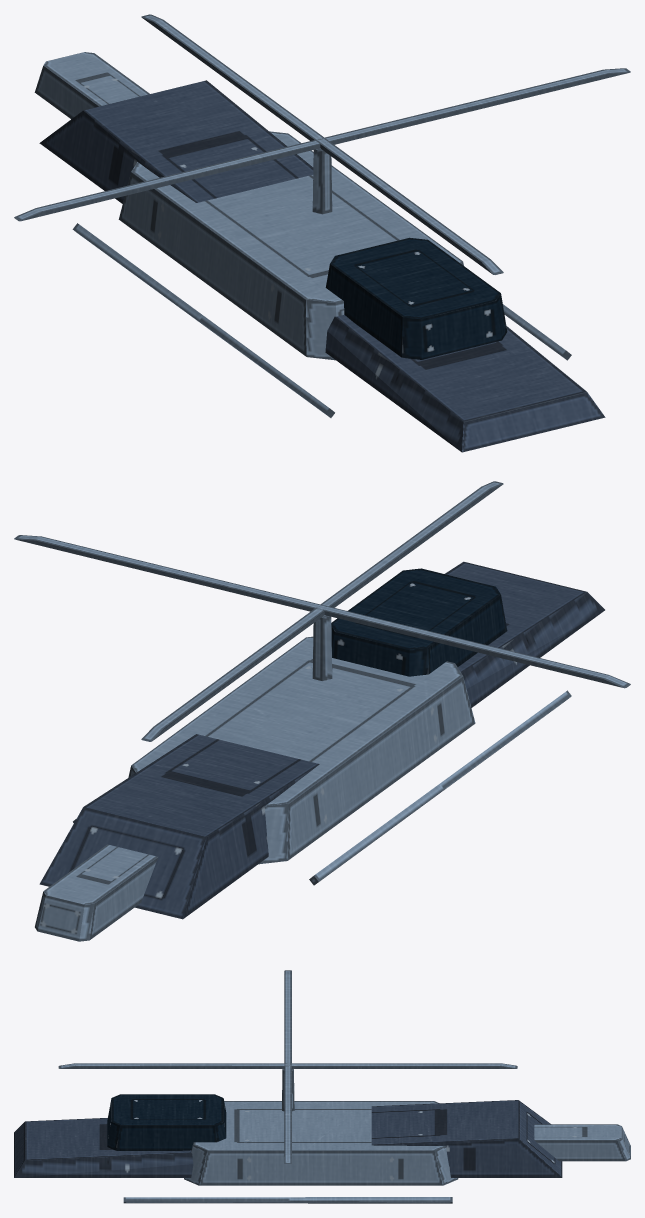
Rendered from unit-transport_heli.fbx.
3 renders of one model, top to bottom at view 1: azimuth 30°, elevation 25°; view 2: azimuth 150°, elevation 25°; view 3: azimuth 270°, elevation 25°, orthographic. The views are drawn at different scales.
Visible parts, largest first — view 1: unit-transport_heli; view 2: unit-transport_heli; view 3: unit-transport_heli.
Part boxes in pixels (<box>): unit-transport_heli: <box>14,14,630,452</box>; unit-transport_heli: <box>14,481,630,941</box>; unit-transport_heli: <box>14,970,630,1203</box>.
Size of the model in its own units: 816 by 199 by 1097.
Materials: 1 (1 with a texture image).
